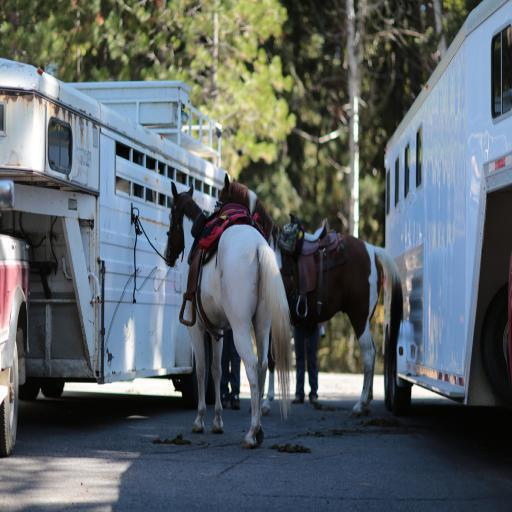horse: (212, 172, 404, 416), (163, 181, 293, 445)
